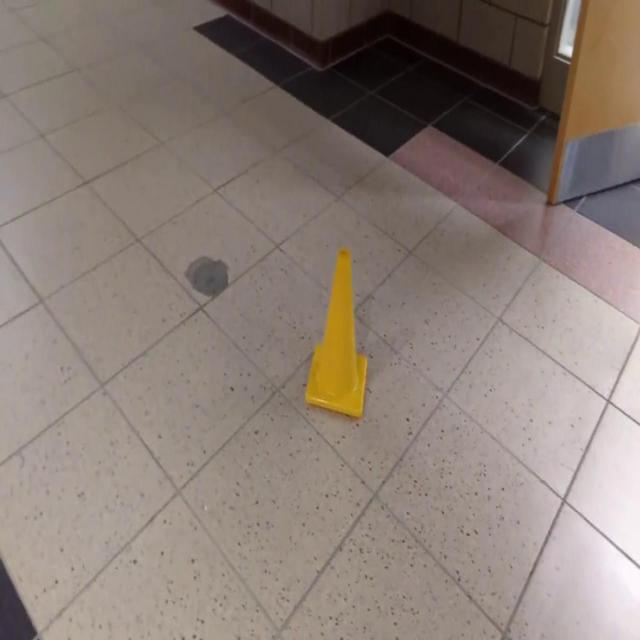frc_cone: (303, 244, 375, 425)
